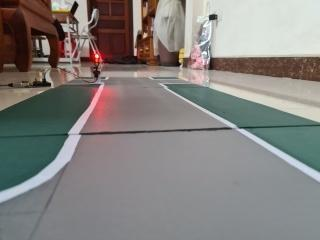red: (88, 48, 104, 80)
